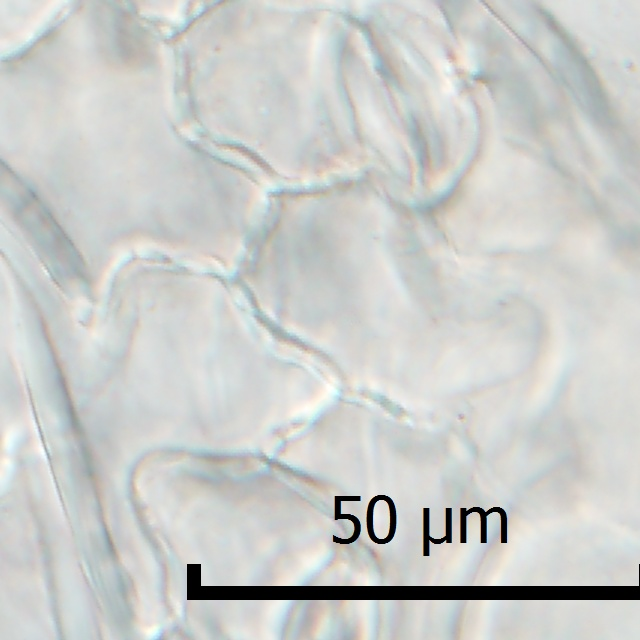center: (346, 34, 428, 177), (22, 26, 56, 36)
stomata-huw1: (304, 1, 480, 210), (257, 571, 384, 639), (1, 1, 77, 61)
